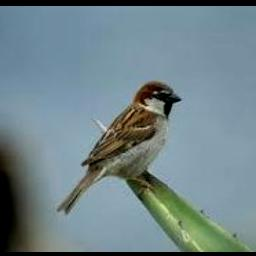Sparrow: (56, 80, 180, 214)
